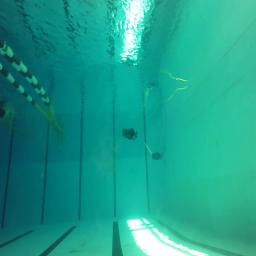Full: (152, 152, 163, 158)
Side: (123, 128, 137, 138)
